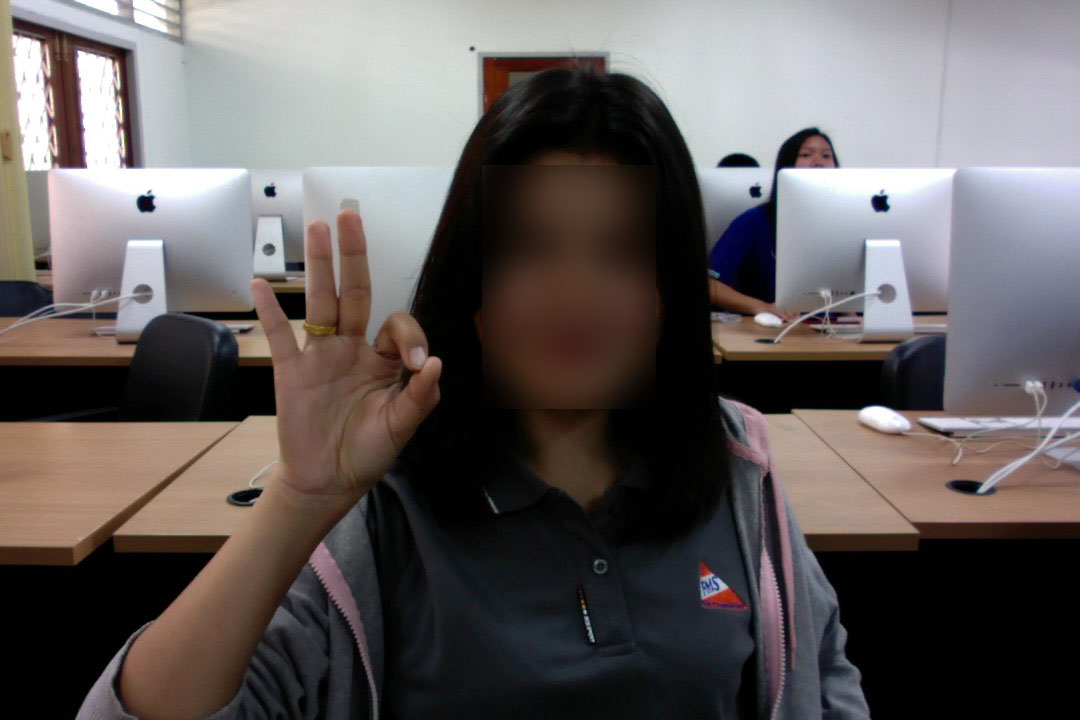for: (234, 193, 451, 512)
